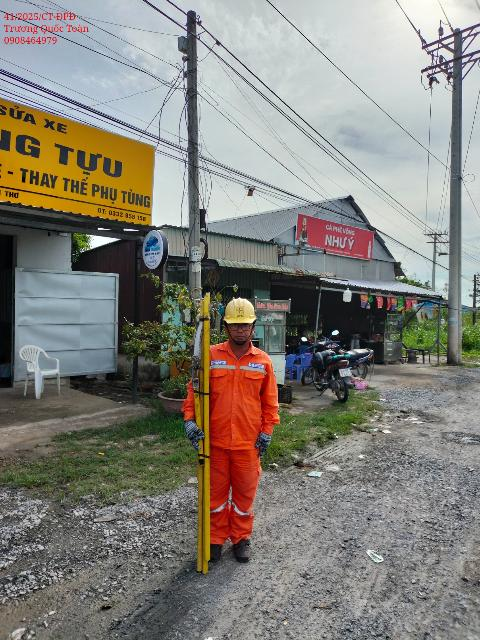gloves: (183, 419, 208, 452), (248, 434, 281, 459)
helmet: (218, 291, 268, 330)
shoes: (229, 534, 260, 565), (203, 538, 225, 566)
